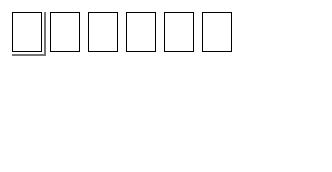
Scenario: SvelteOtp › should distribute multi-char input when pasted on mobile (input event without paste event)
Type "123456" into the field named "Digit 1 of 6".
click(27, 32); type("123456")  # box [12, 12, 42, 52]
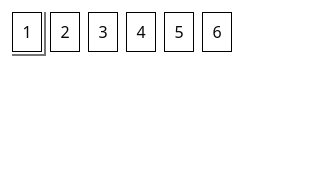
Check: the field named "Digit 1 of 6" holds "1", box [12, 12, 42, 52]
Check: the field named "Digit 2 of 6" holds "2", box [50, 12, 80, 52]
Check: the field named "Digit 3 of 6" holds "3", box [88, 12, 118, 52]
